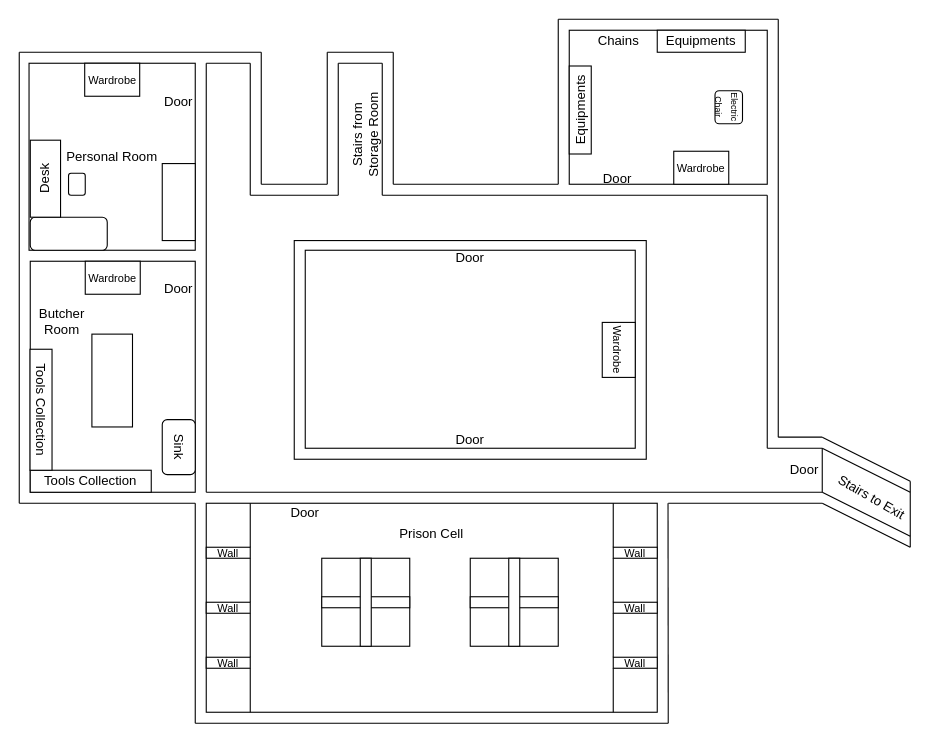
This 942x744 diagram has some shape labels left out. Here are the shapes that lost their labels. From the top down, the box of each, then its label:
(568, 29, 767, 184): Torture Room
(67, 172, 85, 195): Chair
(161, 162, 195, 241): Collection
(29, 216, 107, 250): Bed
(304, 249, 635, 448): Dead Body Storage
(91, 333, 133, 427): Butcher Table
